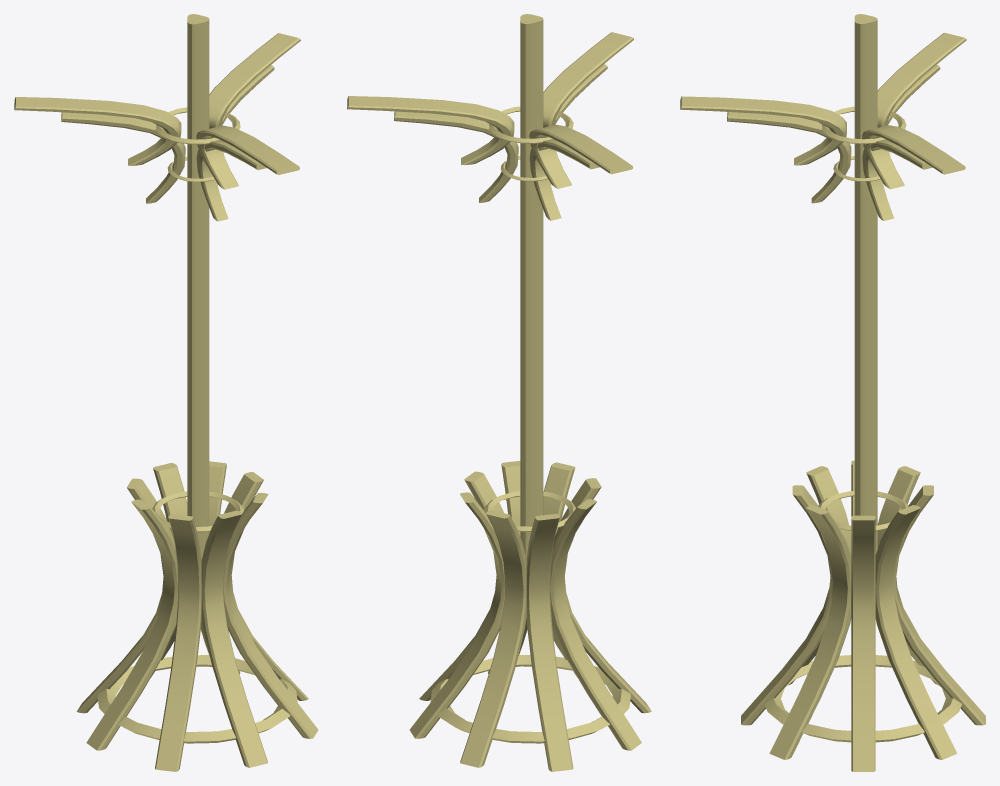
File: Coat_stand_FUR.FBX
3 views of the same model, side by side, from view 1: azimuth 30°, elevation 25°; view 2: azimuth 150°, elevation 25°; view 3: azimuth 270°, elevation 25° (orthographic).
Parts seen in each view (by area): view 1: polySurface38; view 2: polySurface38; view 3: polySurface38.
Part boxes in pixels (x1,y1,x2,y2): polySurface38: [14, 14, 318, 771]; polySurface38: [347, 14, 651, 771]; polySurface38: [680, 14, 985, 771].
Bounding box in the file's own units: 1.14 × 2.66 × 1.05.
